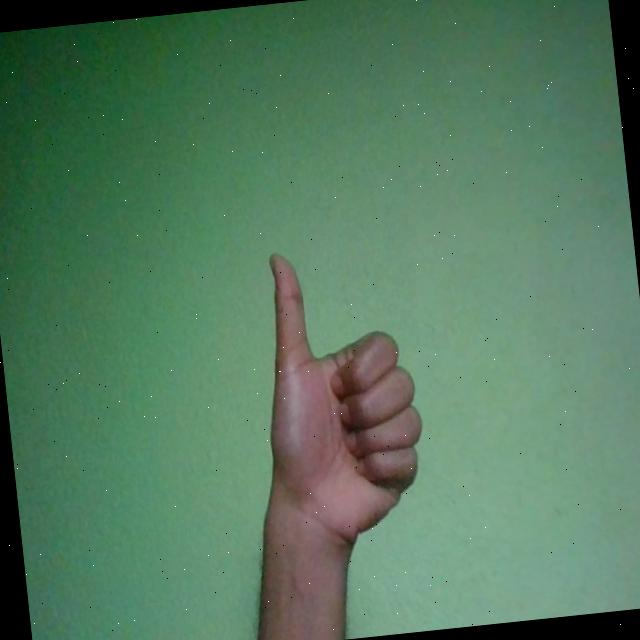Good Job: (249, 241, 436, 558)
